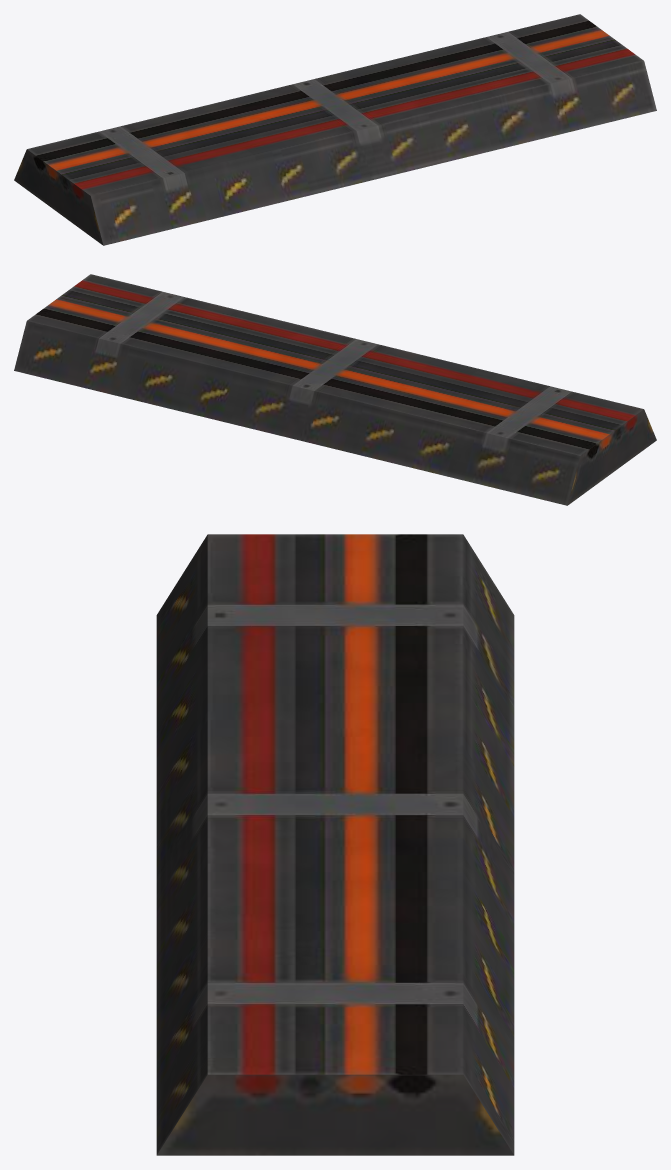
File: power_conduit.glb
3 views of the same model, one above another, from view 1: azimuth 30°, elevation 25°; view 2: azimuth 150°, elevation 25°; view 3: azimuth 270°, elevation 25° (orthographic). The views are drawn at different scales.
Parts seen in each view (by area): view 1: power_conduit; view 2: power_conduit; view 3: power_conduit.
Boxes of the visible parts, bbox=[...] form: power_conduit: bbox=[14, 14, 656, 245]; power_conduit: bbox=[14, 274, 656, 505]; power_conduit: bbox=[156, 534, 514, 1155].
Bounding box in the file's own units: 2 × 0.14 × 0.56.
Materials: 1 (1 with a texture image).
